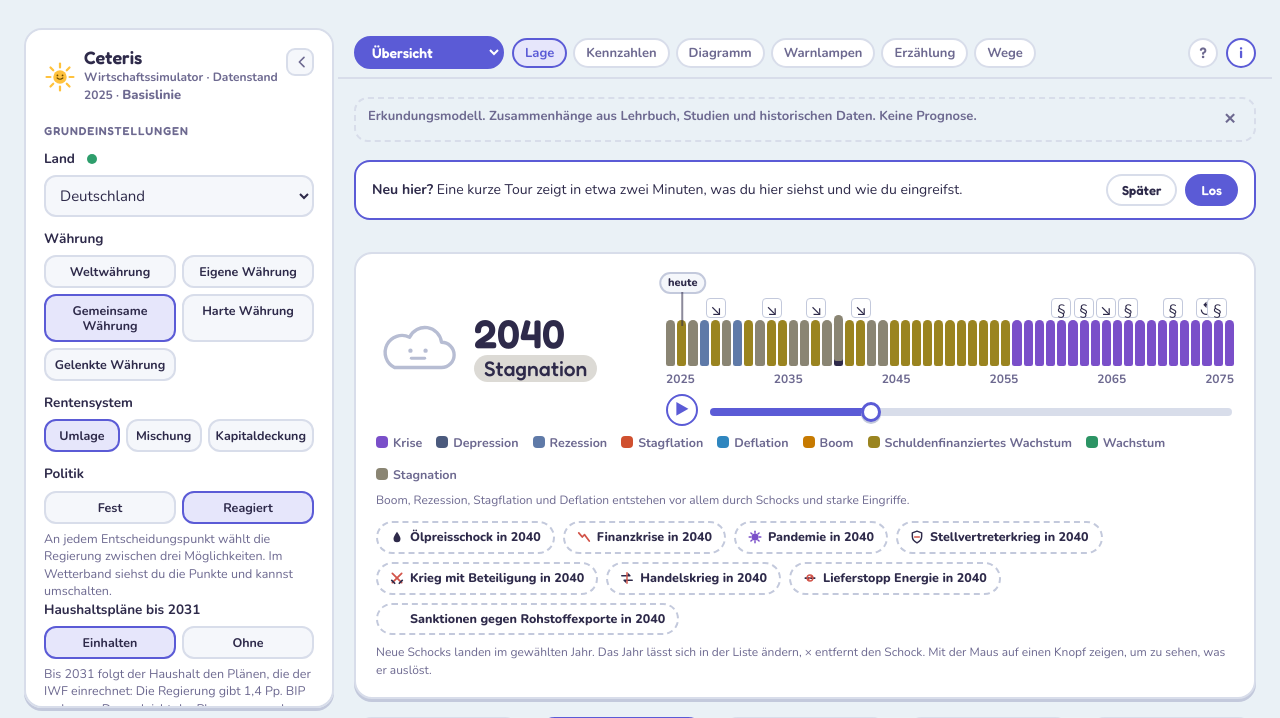
13.13 Entscheidungspunkte zum Umschalten › der Knopf im Wetterband öffnet drei Karten; genau eine trägt „So entscheidet Politik wahrscheinlich“
expect the element "Die Regierung muss entscheiden" is not shown: met
Click the 1st button "↘" at (716, 308), box [706, 298, 726, 318]
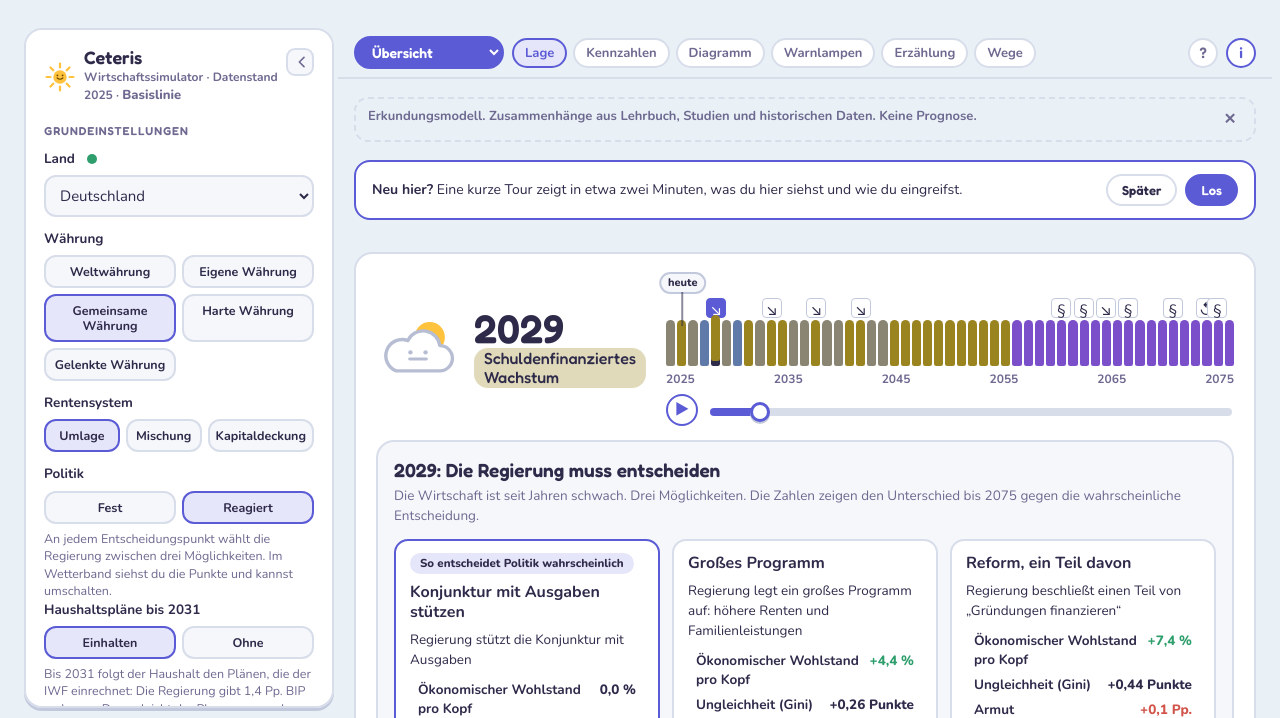
Erneuter Klick schließt.
Click the 1st button "↘" at (716, 308), box [706, 298, 726, 318]
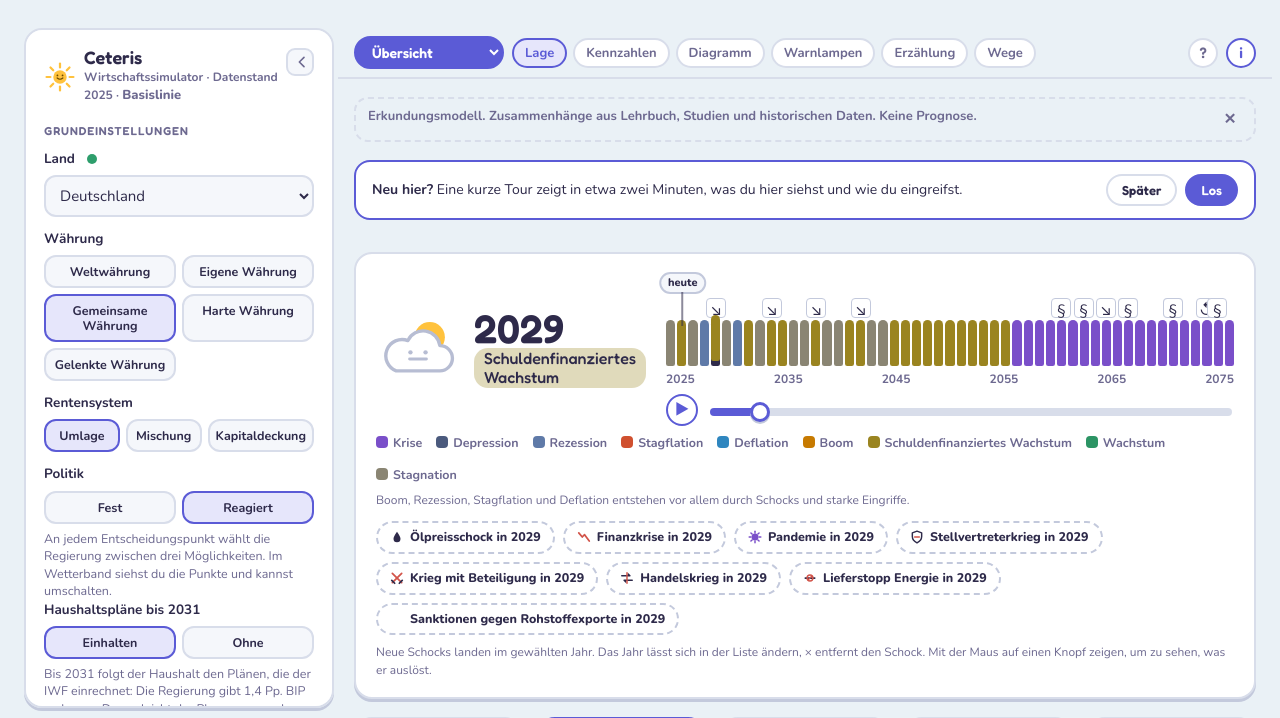
expect the heading "Die Regierung muss entscheiden" is gone: met
